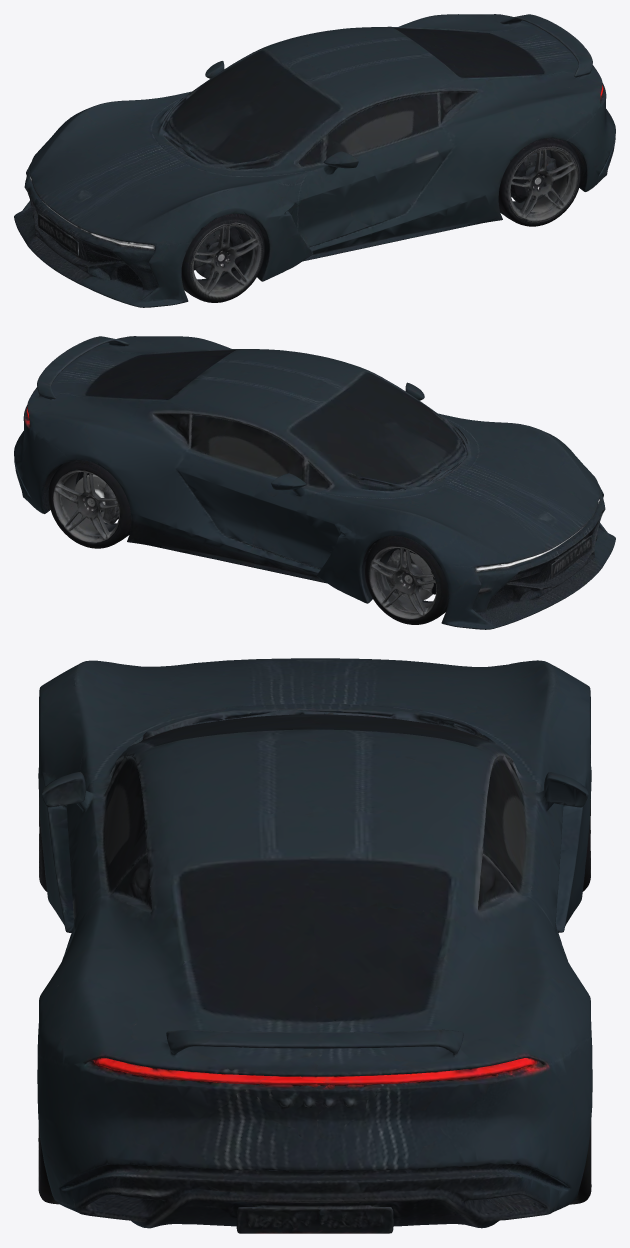
Rendered from neon-coupe-detail-v18.glb.
The picture shows the model from 3 angles, top to bottom: view 1: azimuth 30°, elevation 25°; view 2: azimuth 150°, elevation 25°; view 3: azimuth 270°, elevation 25°; orthographic projection. The views are drawn at different scales.
Size of the model in its own units: 1.9 by 0.5152 by 0.858.
1 material, 1 textured.
